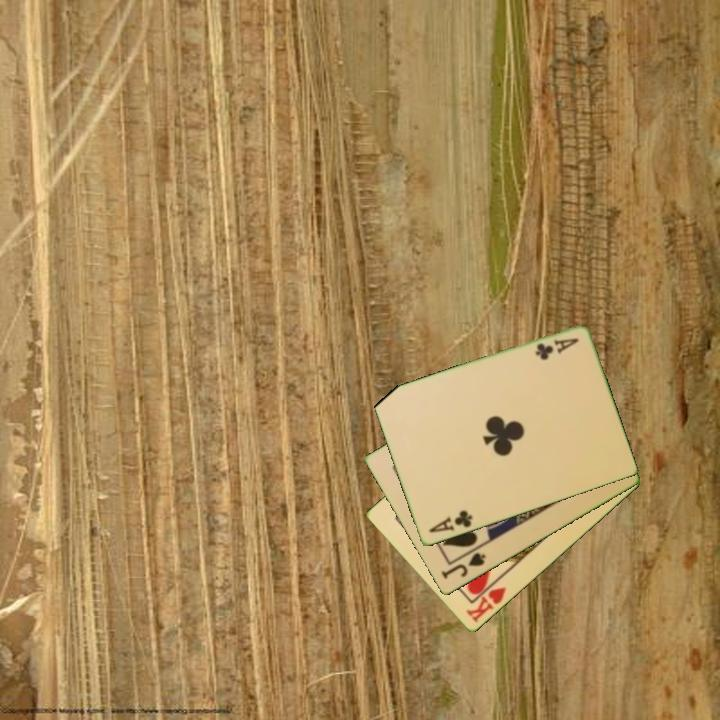Ac: (532, 335, 582, 364), (426, 507, 475, 536)
Js: (438, 549, 489, 582)
Kh: (463, 575, 509, 626)
